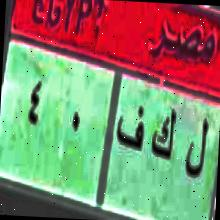0: (65, 108, 87, 144)
4: (20, 76, 47, 140)
faa: (115, 100, 147, 158)
kaaf: (147, 99, 181, 171)
laam: (181, 112, 212, 187)
